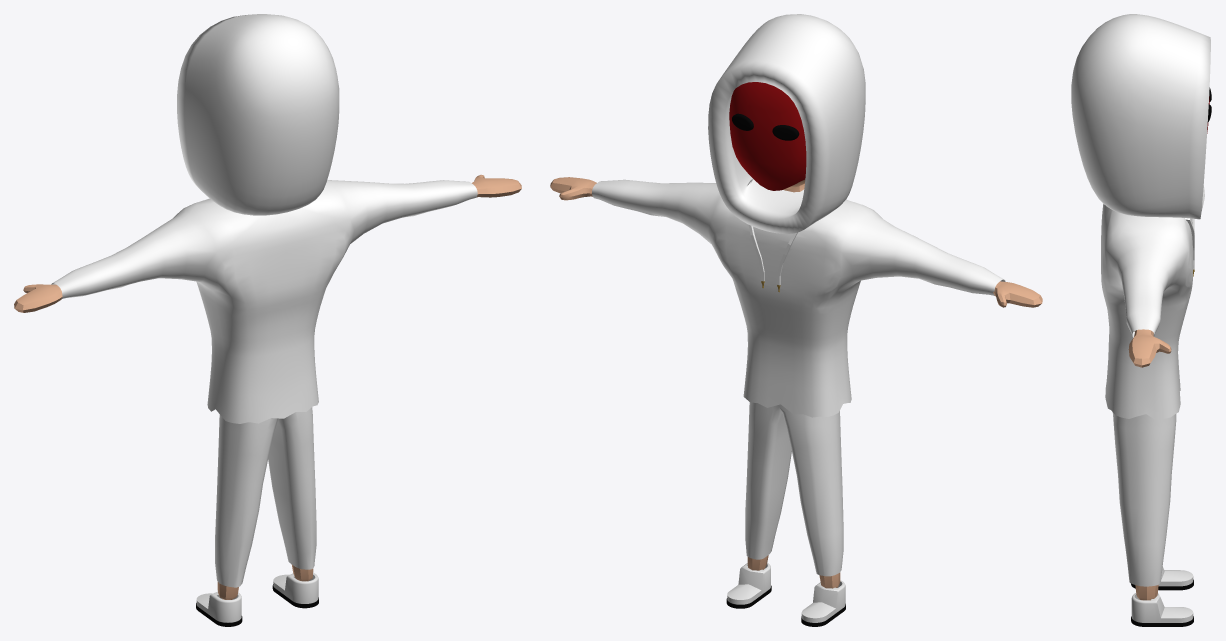
The model's file is Hacker.fbx.
The picture shows the model from 3 angles, left to right: view 1: azimuth 30°, elevation 25°; view 2: azimuth 150°, elevation 25°; view 3: azimuth 270°, elevation 25°; orthographic projection. The views are drawn at different scales.
Parts seen in each view (by area): view 1: Jumper, Hood, Trousers, Body, Left_Boot, Right_Boot; view 2: Jumper, Hood, Trousers, Mask, Body, Right_Boot, Left_Boot; view 3: Hood, Jumper, Trousers, Left_Boot, Body, Right_Boot.
Boxes of the visible parts, x1,y1,x2,y2 form: Jumper: [51, 180, 477, 423]; Hood: [177, 14, 339, 215]; Trousers: [215, 407, 316, 587]; Body: [14, 174, 521, 599]; Left_Boot: [272, 572, 318, 608]; Right_Boot: [196, 591, 242, 626]; Jumper: [592, 179, 1005, 417]; Hood: [708, 14, 865, 233]; Trousers: [745, 402, 843, 576]; Mask: [729, 82, 806, 190]; Body: [550, 177, 1042, 588]; Right_Boot: [801, 580, 845, 626]; Left_Boot: [726, 563, 771, 608]; Hood: [1071, 14, 1210, 219]; Jumper: [1101, 204, 1194, 419]; Trousers: [1112, 412, 1176, 586]; Left_Boot: [1131, 593, 1193, 626]; Body: [1128, 329, 1171, 600]; Right_Boot: [1131, 566, 1193, 590].
Bounding box in the file's own units: 164 × 184 × 40.28.
